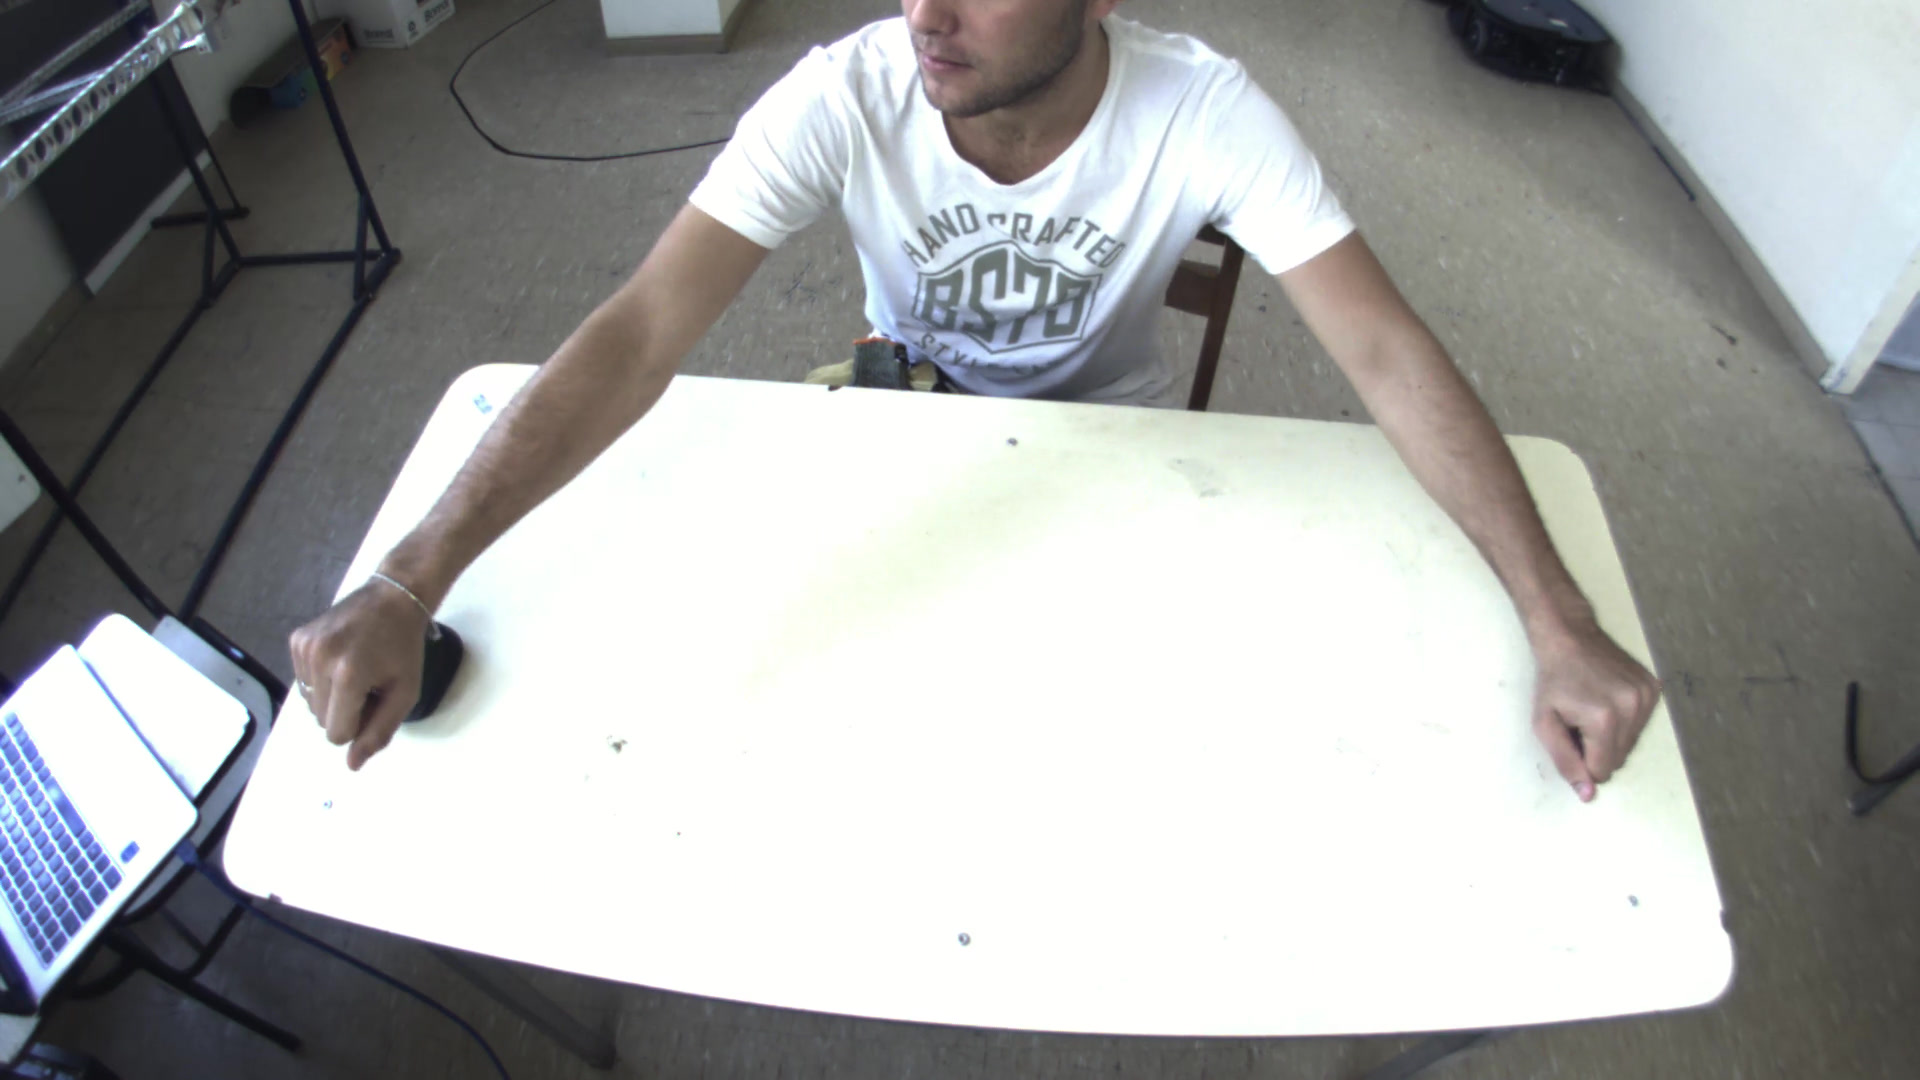hand: (280, 571, 436, 775), (1511, 625, 1673, 798)
